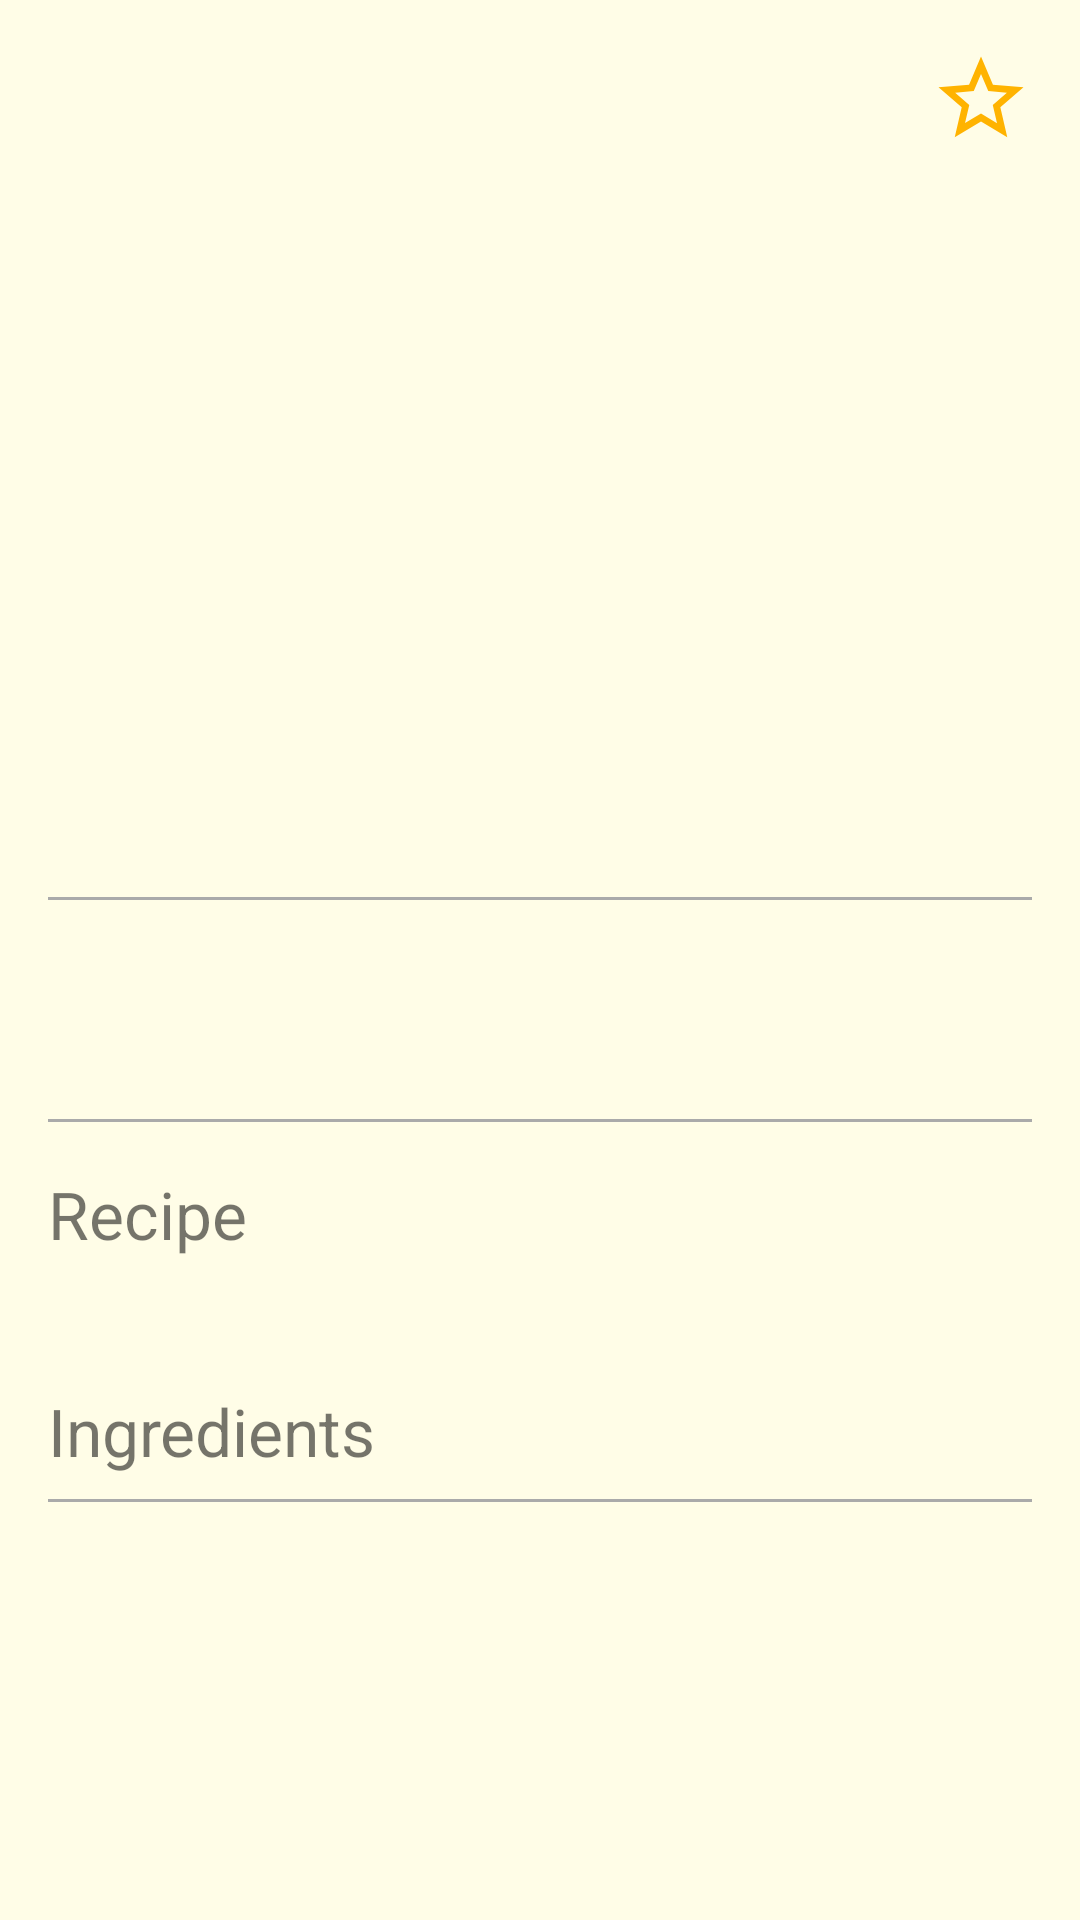

Locate icon controls on the screen. Image size 1080 x 1920, boxes as (x1, y1, x2, y2).
Favorite cocktail: (938, 57, 1023, 137)
